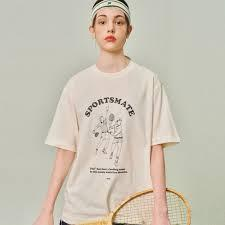Tshirt: (42, 55, 187, 225)
